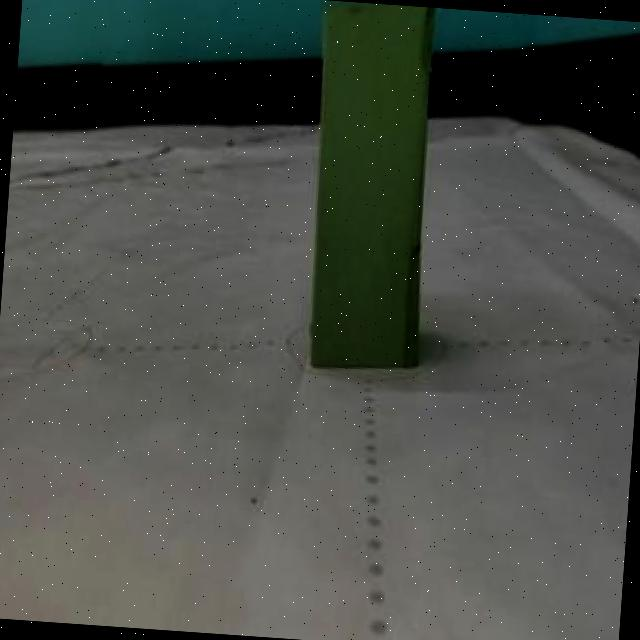greenbox: (295, 0, 442, 371)
